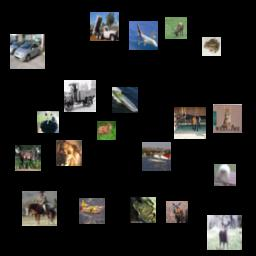airplane: (129, 21, 158, 50), (142, 142, 171, 171), (79, 198, 105, 224)
automobile: (10, 34, 45, 69)
bird: (37, 111, 59, 133)
cat: (213, 104, 242, 133)
deer: (207, 215, 242, 250), (166, 201, 188, 223), (165, 17, 187, 39), (97, 121, 116, 140)
dog: (56, 140, 82, 166), (214, 164, 236, 186)
frog: (130, 197, 156, 223), (202, 37, 221, 56)
ship: (112, 87, 138, 113)
truck: (64, 80, 96, 112), (90, 12, 119, 41)
